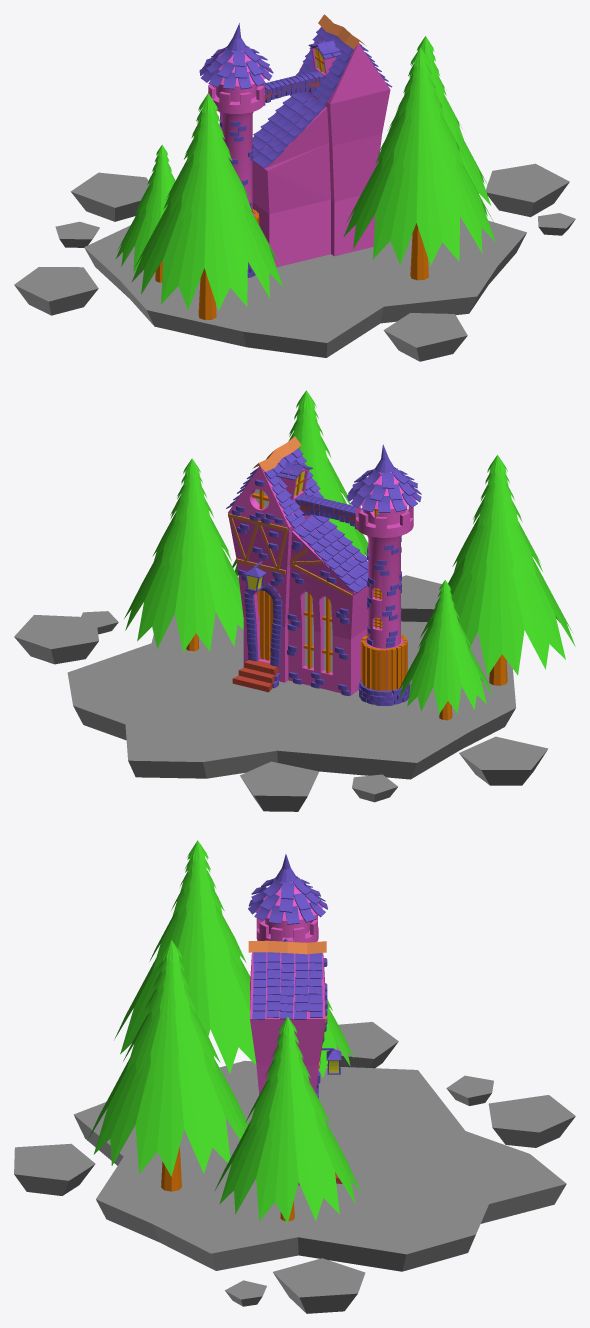
File: castle_island_base.dae
3 renders of one model, top to bottom at view 1: azimuth 30°, elevation 25°; view 2: azimuth 150°, elevation 25°; view 3: azimuth 270°, elevation 25°, orthographic. The views are drawn at different scales.
Visible parts, largest first — view 1: Plane, Cube, Circle.002, Circle.003, Cube.228, Circle, Circle.004, Circle.001, Cylinder.001, Cylinder.002, Plane.001; view 2: Plane, Circle.003, Cube, Circle.001, Cube.228, Circle.004, Circle, Circle.002, Cube.007, Cube.006, Cube.001, Plane.001; view 3: Plane, Circle.002, Circle.001, Circle.003, Cube.228, Cube, Circle, Plane.001, Circle.004.
Part boxes in pixels (left/top/right/bottom): Plane: left=14, top=163, right=575, bottom=361; Cube: left=252, top=39, right=390, bottom=267; Circle.002: left=343, top=47, right=495, bottom=265; Circle.003: left=131, top=93, right=283, bottom=310; Cube.228: left=199, top=27, right=392, bottom=168; Circle: left=204, top=50, right=268, bottom=217; Circle.004: left=116, top=145, right=175, bottom=272; Circle.001: left=379, top=36, right=491, bottom=205; Cylinder.001: left=410, top=223, right=428, bottom=280; Cylinder.002: left=198, top=268, right=216, bottom=320; Plane.001: left=318, top=14, right=365, bottom=49; Plane: left=14, top=575, right=548, bottom=811; Circle.003: left=420, top=455, right=575, bottom=676; Cube: left=228, top=466, right=368, bottom=695; Circle.001: left=124, top=458, right=243, bottom=652; Cube.228: left=226, top=448, right=421, bottom=593; Circle.004: left=398, top=580, right=492, bottom=713; Circle: left=352, top=472, right=417, bottom=703; Circle.002: left=232, top=390, right=368, bottom=575; Cube.007: left=252, top=473, right=382, bottom=673; Cube.006: left=228, top=513, right=288, bottom=574; Cube.001: left=232, top=660, right=278, bottom=692; Plane.001: left=252, top=436, right=301, bottom=471; Plane: left=14, top=1022, right=575, bottom=1313; Circle.002: left=87, top=940, right=248, bottom=1176; Circle.001: left=215, top=1016, right=360, bottom=1223; Circle.003: left=114, top=840, right=256, bottom=1073; Cube.228: left=248, top=874, right=327, bottom=1019; Cube: left=250, top=952, right=325, bottom=1185; Circle: left=255, top=882, right=322, bottom=942; Plane.001: left=248, top=940, right=326, bottom=954; Circle.004: left=256, top=999, right=353, bottom=1077.
Size of the model in its own units: 25.93 by 22.31 by 12.7.
